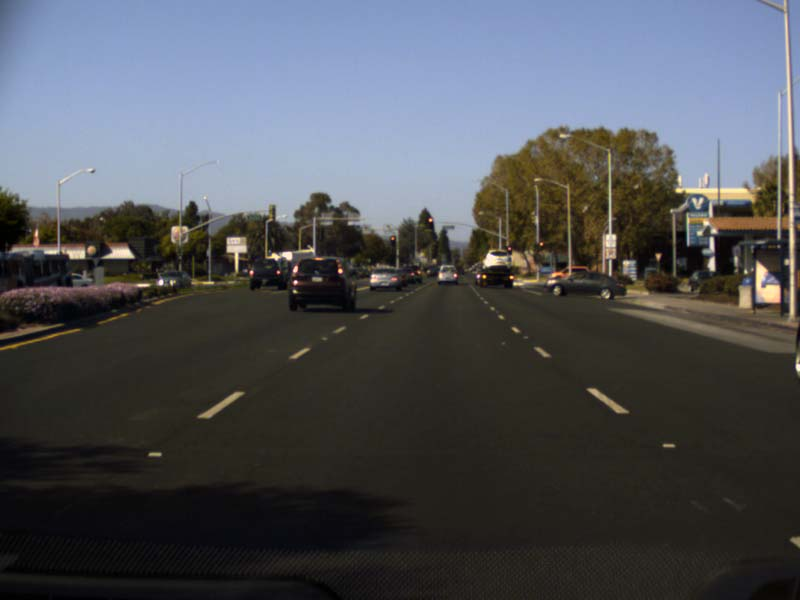Red: (427, 216, 432, 229), (389, 236, 395, 245), (538, 240, 544, 248), (506, 247, 511, 252)
